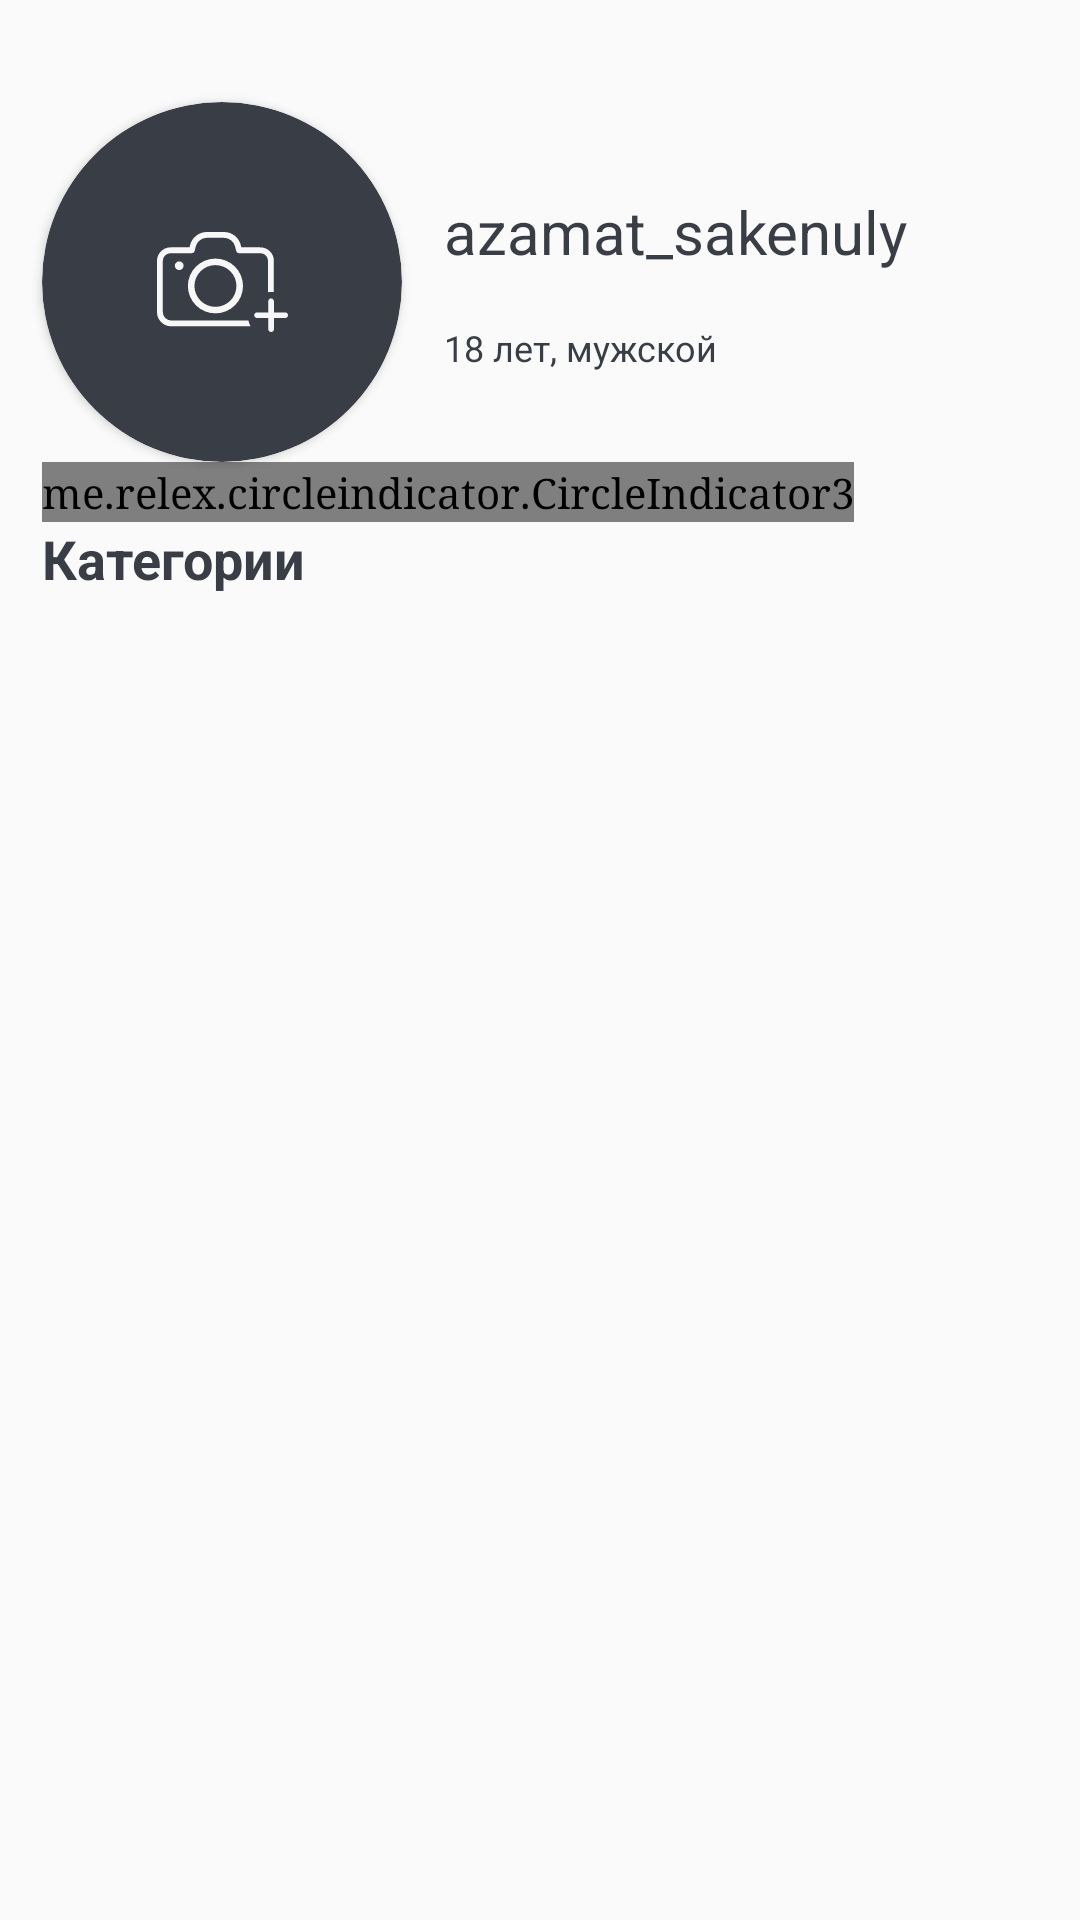

Icon click points for this 1080×1920 phone screenshot, format point (x, y):
camera: point (222, 282)
